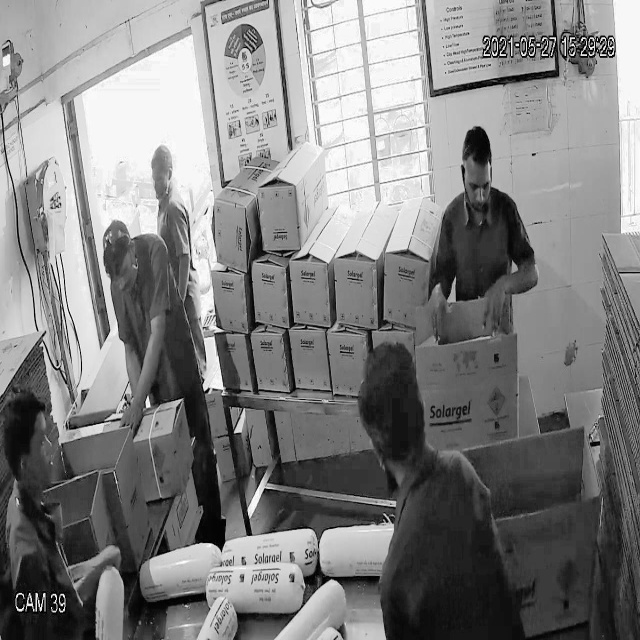Sin_gafas: (464, 170, 497, 198)
